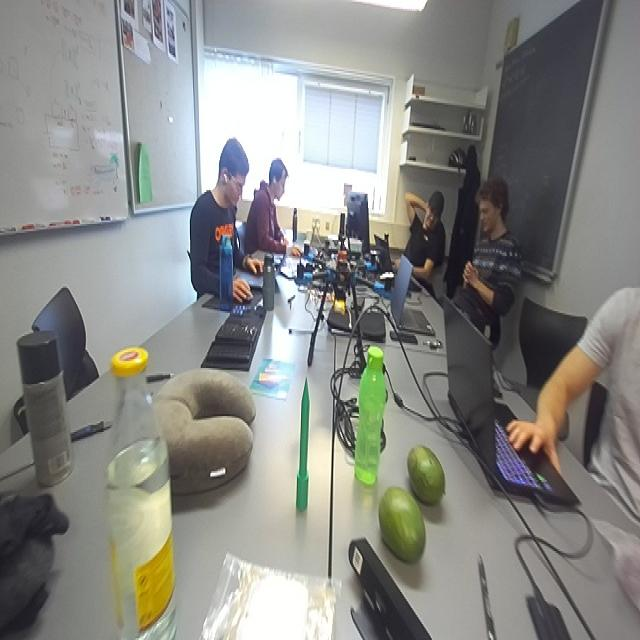probe: (296, 379, 309, 510)
